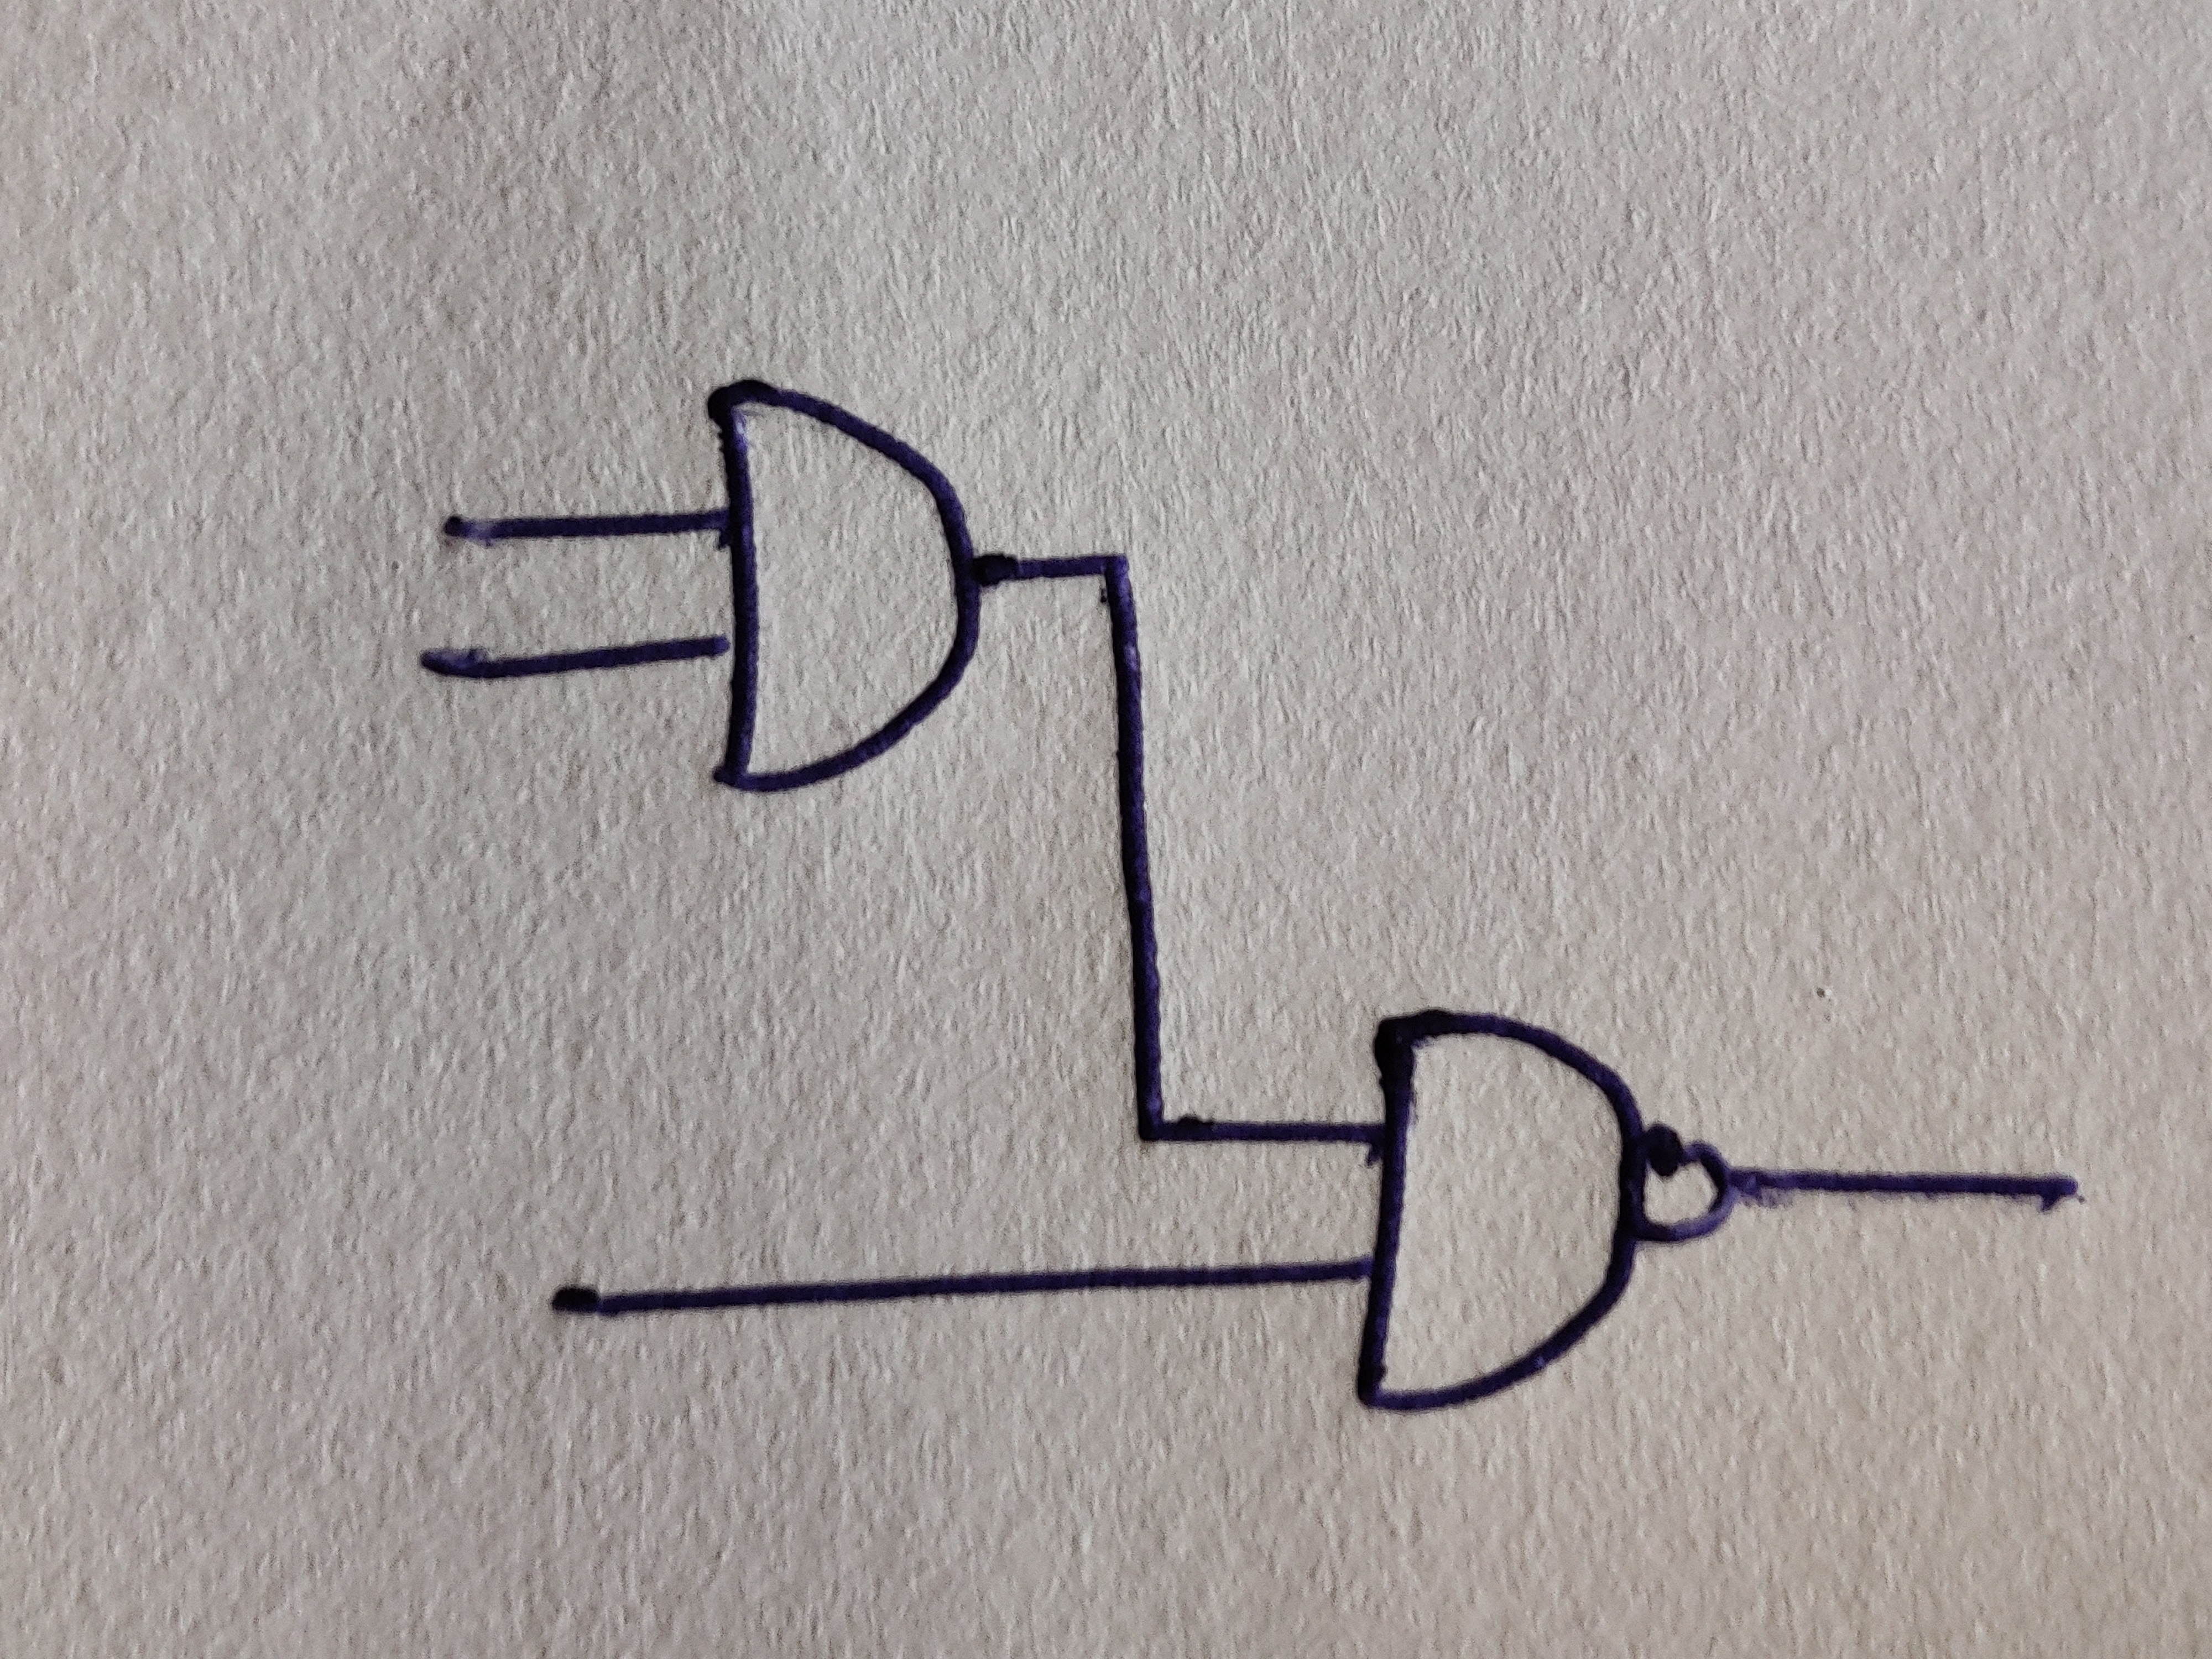and: (1355, 1007, 1648, 1412), (707, 378, 977, 793)
not: (1627, 1122, 1733, 1243)
